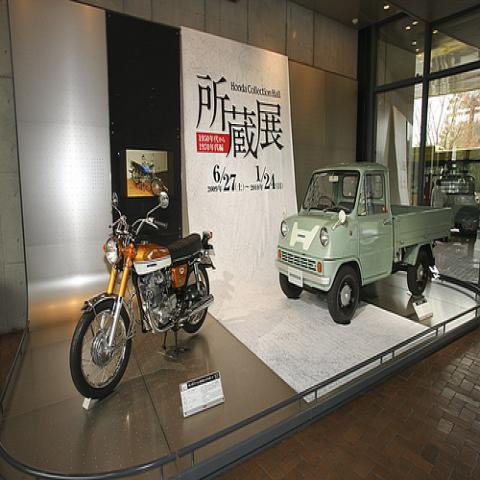motorcycle: (68, 192, 215, 400)
truck: (275, 162, 452, 324)
